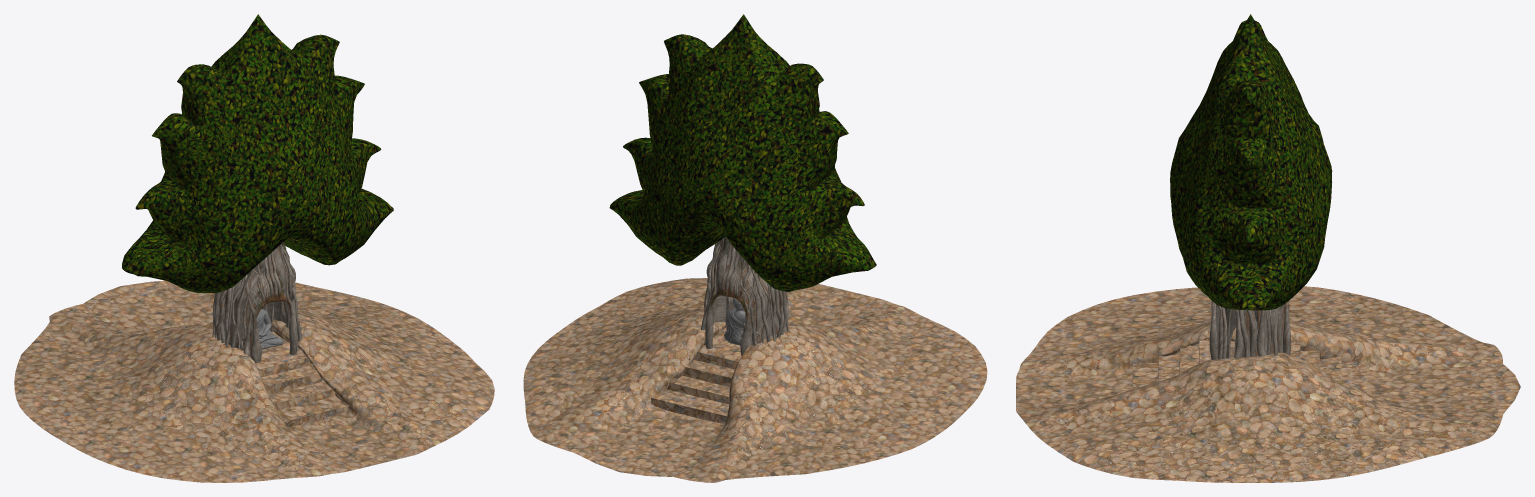
File: tree.gltf
3 views of the same model, side by side, from view 1: azimuth 30°, elevation 25°; view 2: azimuth 150°, elevation 25°; view 3: azimuth 270°, elevation 25° (orthographic). The views are drawn at different scales.
Parts seen in each view (by area): view 1: pebbles, polySurface2 leaves, roots, buddha1; view 2: pebbles, polySurface2 leaves, roots, buddha1; view 3: pebbles, polySurface2 leaves, roots.
Boxes of the visible parts, x1=… form: pebbles: x1=14, y1=280, x2=494, y2=482; polySurface2 leaves: x1=122, y1=14, x2=393, y2=293; roots: x1=212, y1=242, x2=302, y2=363; buddha1: x1=256, y1=309, x2=283, y2=349; pebbles: x1=523, y1=278, x2=987, y2=482; polySurface2 leaves: x1=609, y1=14, x2=876, y2=291; roots: x1=701, y1=236, x2=788, y2=355; buddha1: x1=724, y1=298, x2=745, y2=345; pebbles: x1=1016, y1=286, x2=1520, y2=482; polySurface2 leaves: x1=1170, y1=14, x2=1332, y2=310; roots: x1=1209, y1=301, x2=1291, y2=359.
Bounding box in the file's own units: 96.01 × 85.35 × 103.
Materials: 4 (4 with a texture image).
